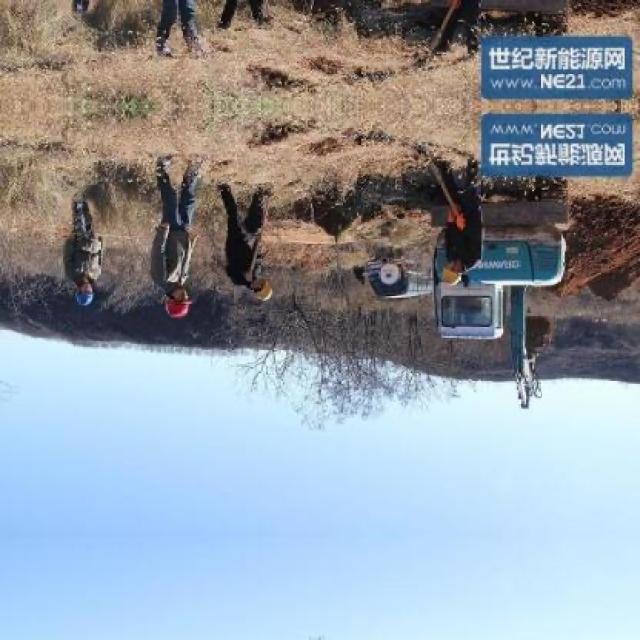con casco: (39, 266, 100, 323), (147, 268, 195, 337), (412, 257, 457, 298), (236, 281, 274, 310)
